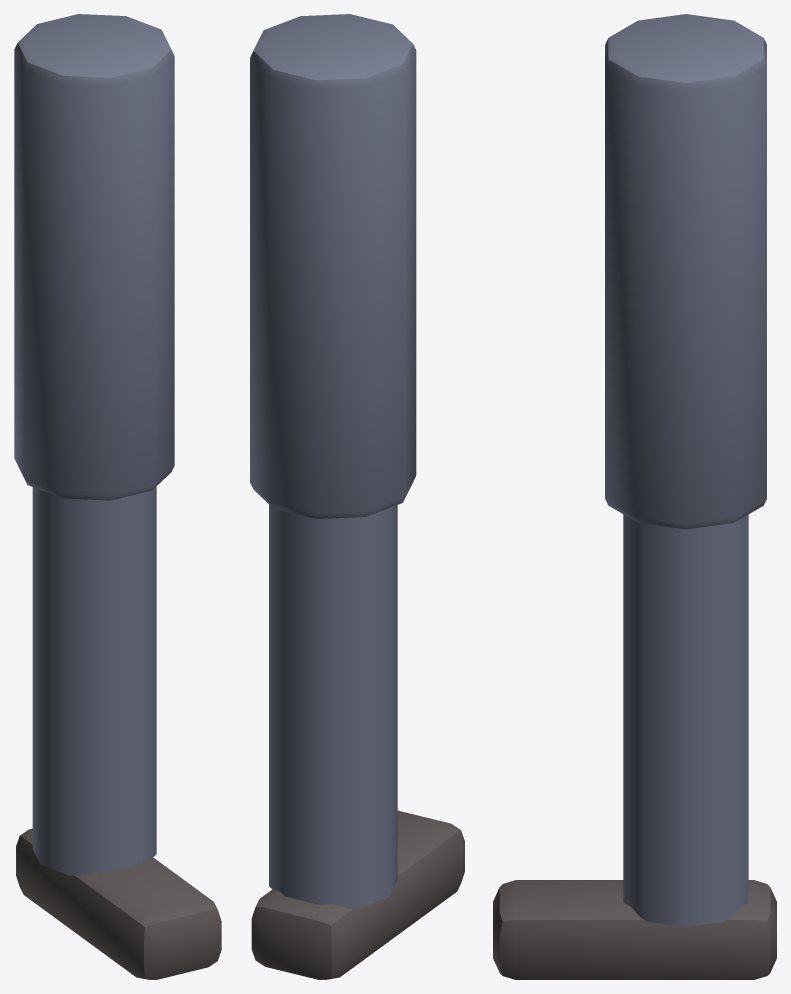
The model's file is person_leg.glb.
3 renders of one model, left to right at view 1: azimuth 30°, elevation 25°; view 2: azimuth 150°, elevation 25°; view 3: azimuth 270°, elevation 25°, orthographic. The views are drawn at different scales.
Visible parts, largest first — view 1: person_leg; view 2: person_leg; view 3: person_leg.
Part boxes in pixels (left/top/right/bottom): person_leg: left=14, top=14, right=221, bottom=979; person_leg: left=250, top=14, right=464, bottom=979; person_leg: left=493, top=14, right=776, bottom=979.
Bounding box in the file's own units: 0.15 × 0.895 × 0.25.
